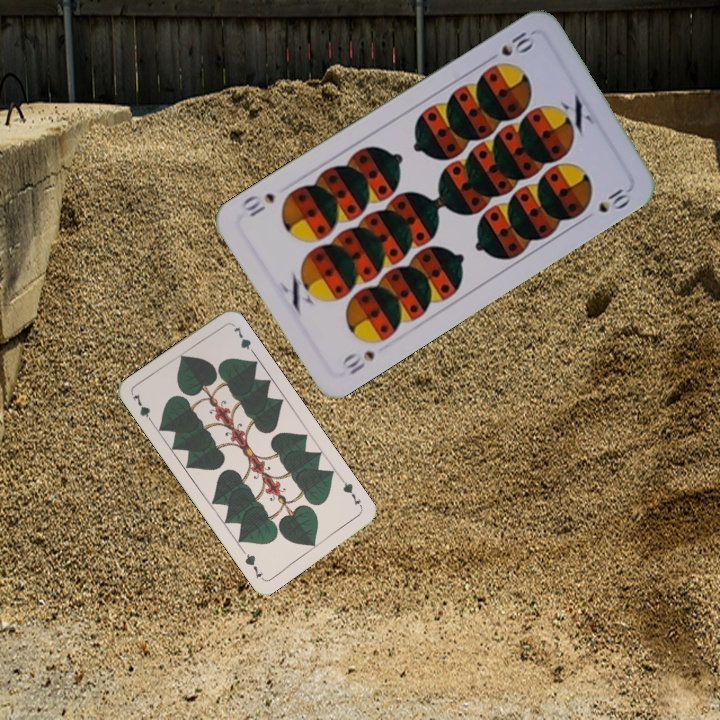G7: (128, 389, 157, 427), (337, 475, 365, 511)
S10: (497, 27, 538, 59), (338, 346, 378, 378)
